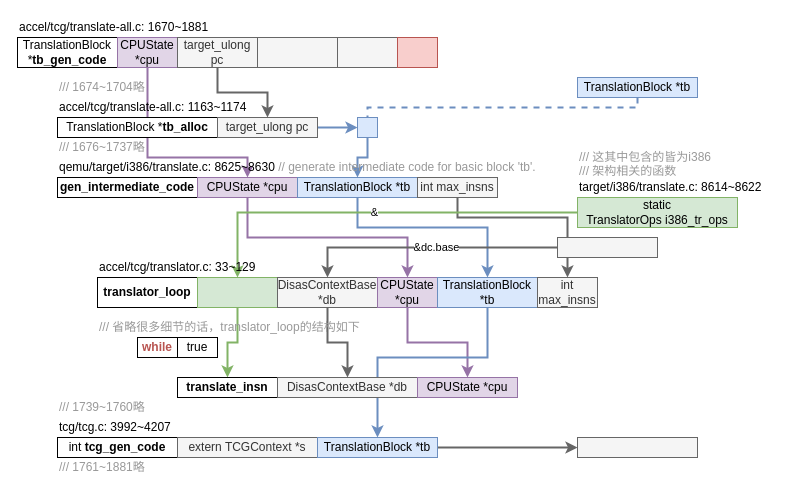
This 795x494 diagram has some shape labels left out. The centre of each missing label's shape, as x and y in pixels:
"DisacContext dc" belongs at [607,247].
"int cflags" belongs at [417,52].
"int gen_code_size" belongs at [637,447].
"target_ulong cs_base" belongs at [297,52].
"tb" belongs at [367,127].
"TranslatorOps *ops" belongs at [237,292].
"uint32_t flags" belongs at [367,52].
